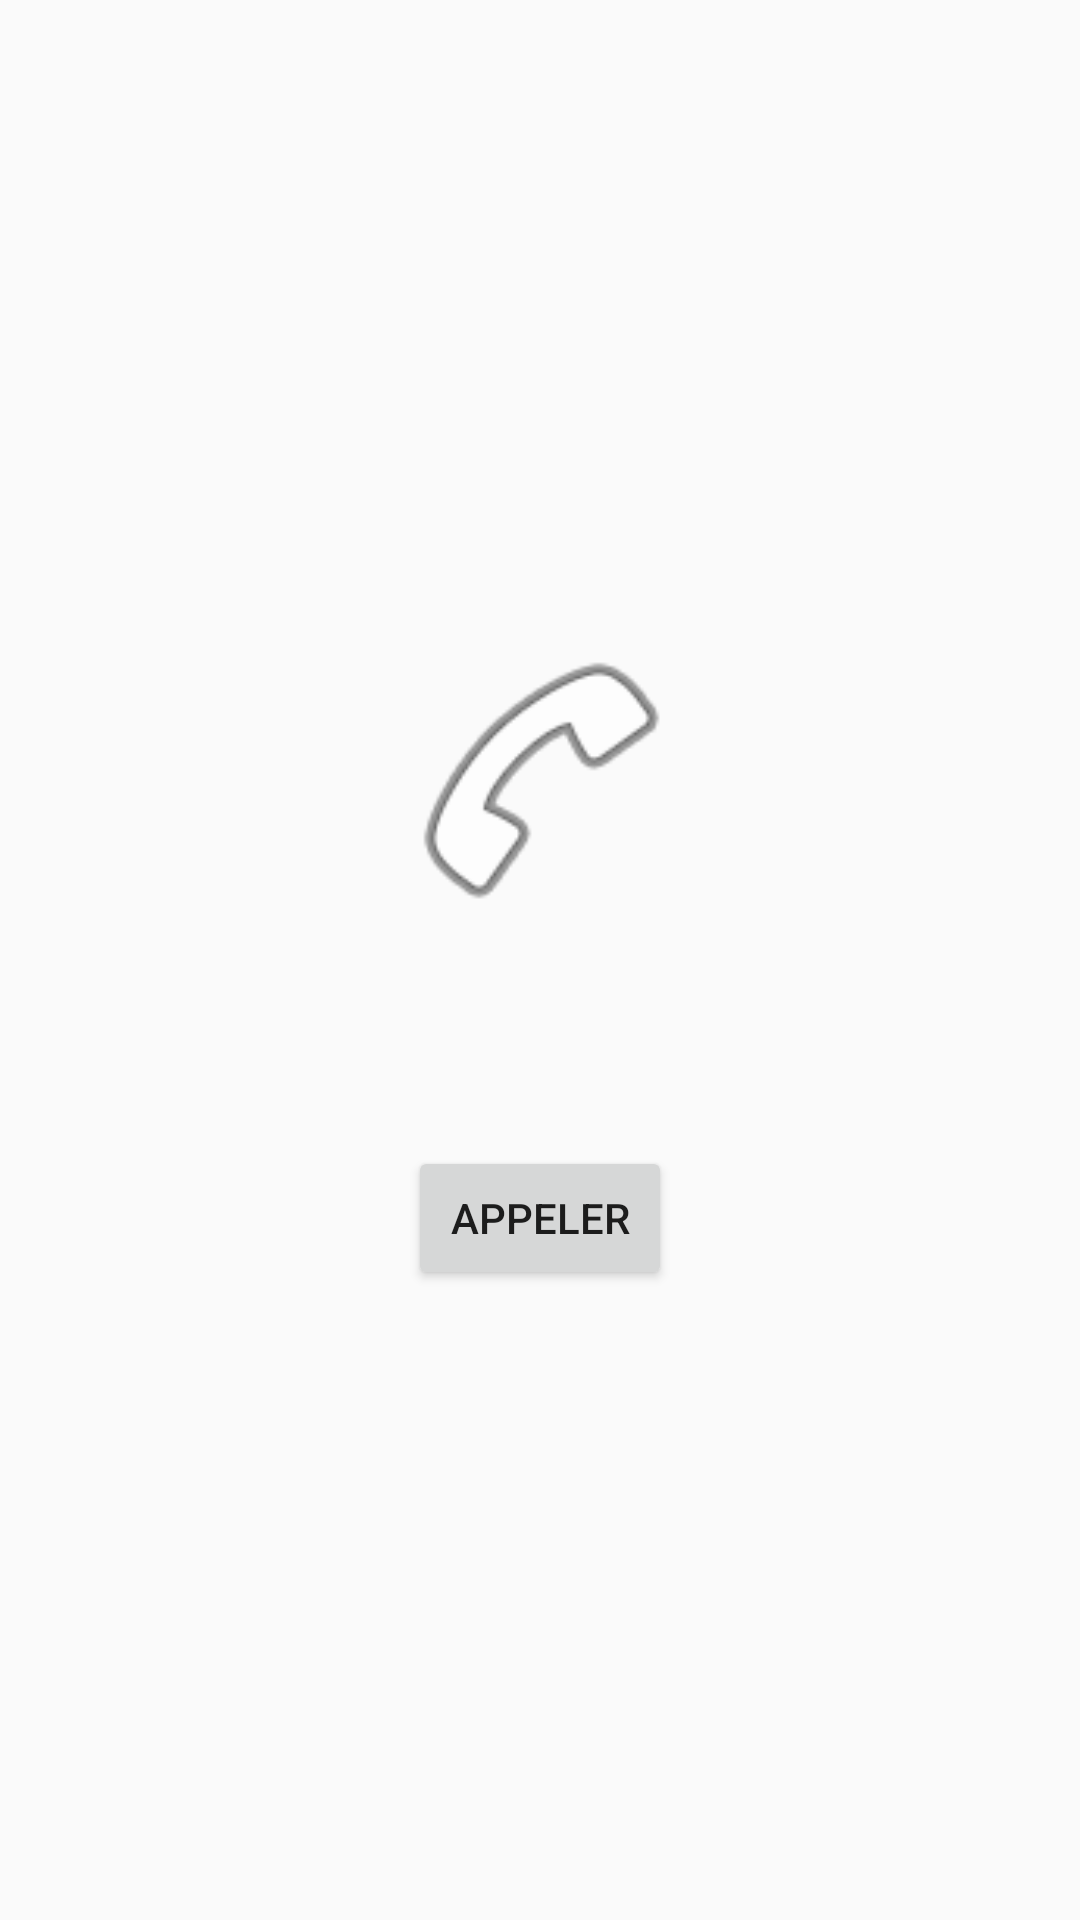

Where to tap for icons on this 1080×1920 app screen, as (x,y):
call: (541,780)
